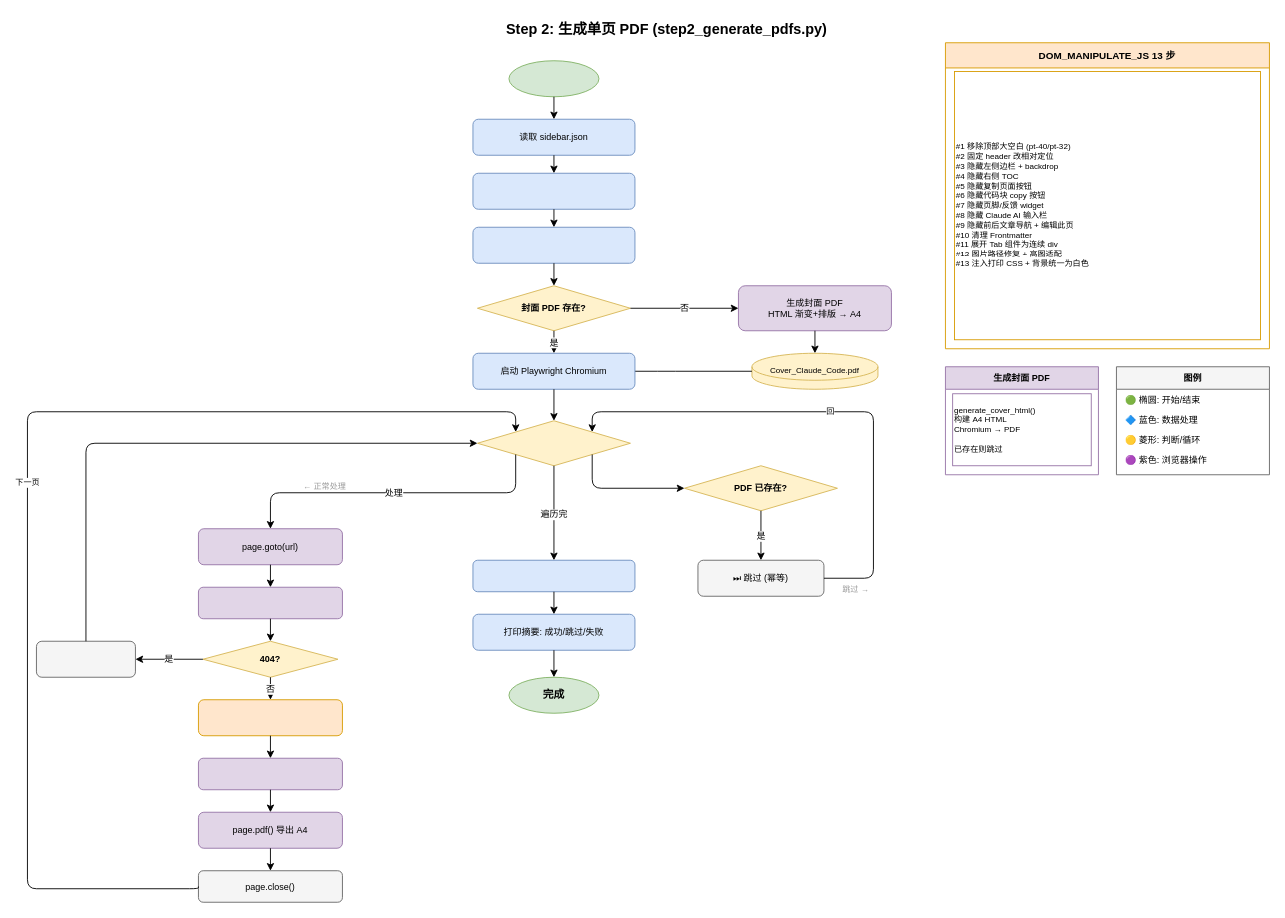
This 1285x918 diagram has some shape labels left out. Each missing label, with the box of its shape:
flatten_pages() 展平为叶子列表: (472, 172, 635, 209)
page.evaluate(DOM_MANIPULATE_JS): (198, 699, 342, 736)
wait 3000ms: (198, 586, 342, 619)
wait 3000ms (图片): (198, 757, 342, 790)
关闭 browser: (472, 559, 635, 592)
关闭 page: (36, 640, 135, 677)
创建输出目录 temp/pdfs/: (472, 226, 635, 263)
开始: (508, 60, 599, 97)
遍历每个页面: (477, 420, 630, 466)
